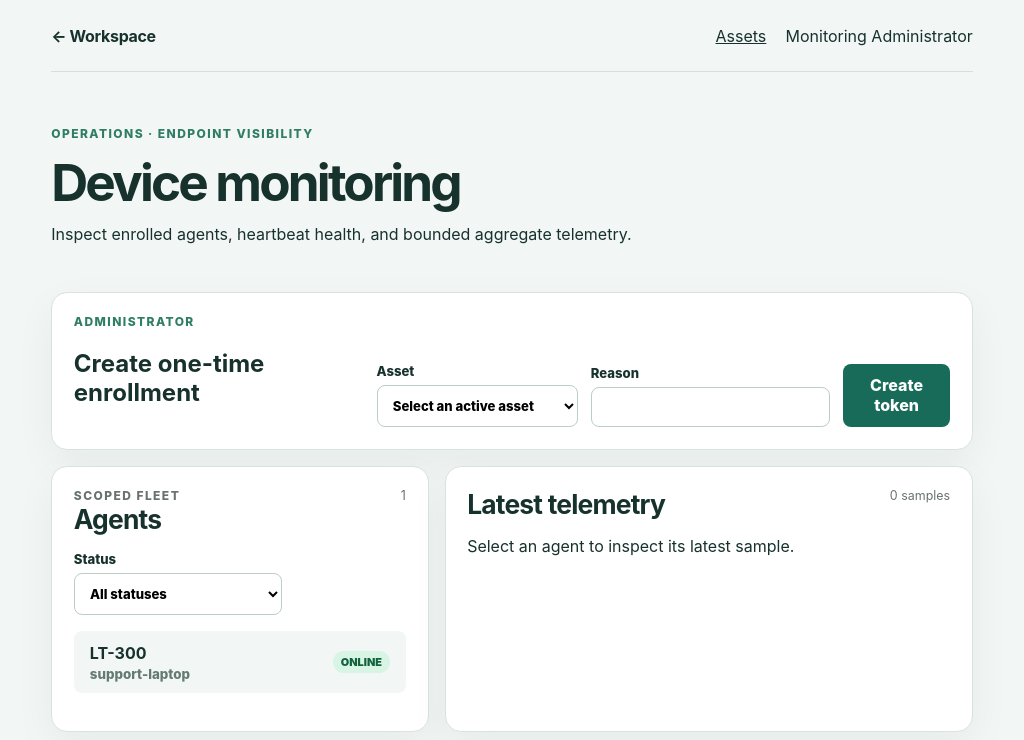
shows scoped telemetry and creates a one-time enrollment token
Expected: the text "LT-300" is shown, [90, 643, 147, 663]
Click the button "LT-300 support-laptop ONLINE" at (118, 653), box [74, 631, 406, 693]
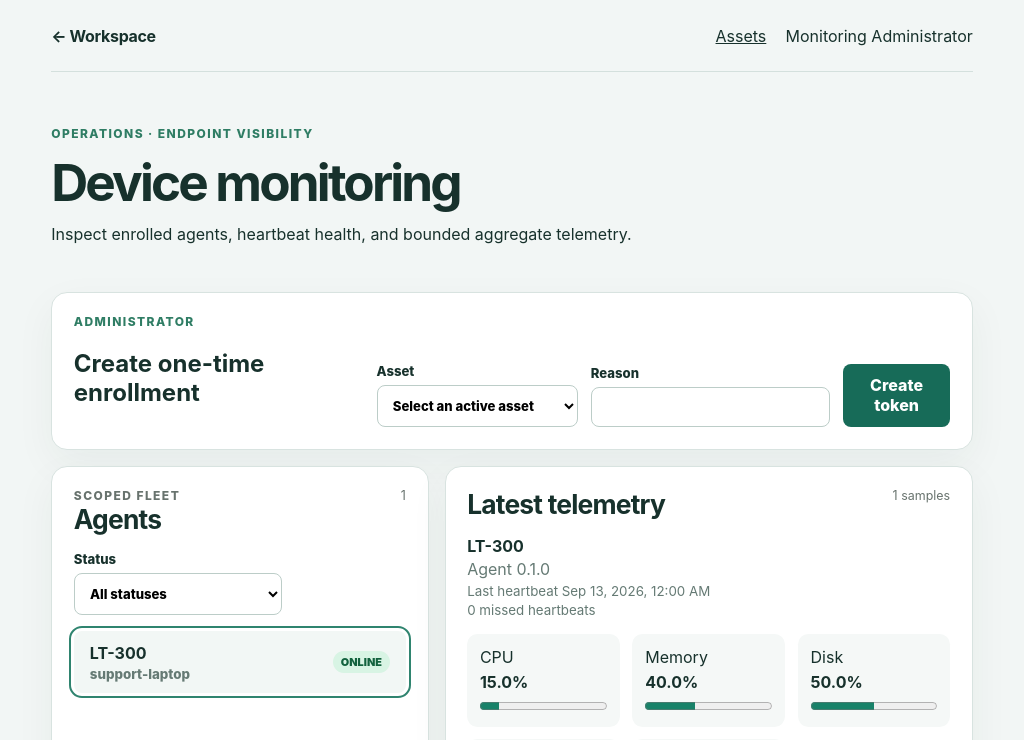
Expected: the text "15.0%" is shown, [480, 672, 528, 692]
Select "LT-300 · support-laptop" in the dropdown labelled "Asset" at (477, 406), box [377, 385, 578, 427]
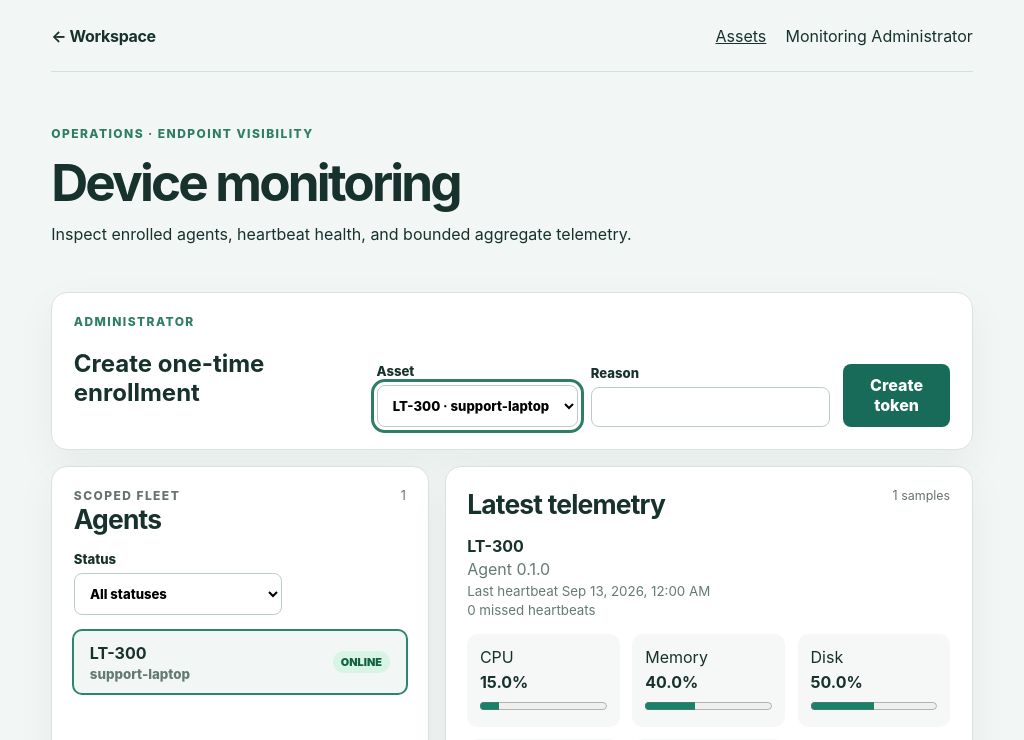
Type "Enroll supported endpoint" into the field labelled "Reason" at (710, 407), box [591, 387, 830, 427]
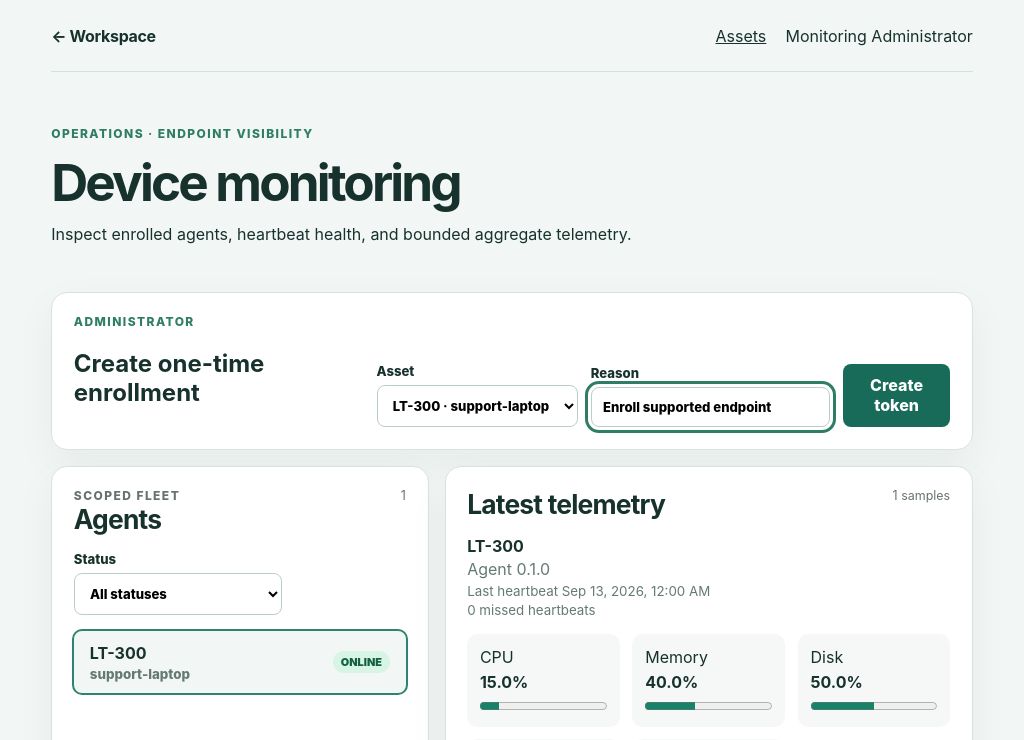
Click the button "Create token" at (897, 395), box [843, 364, 950, 427]
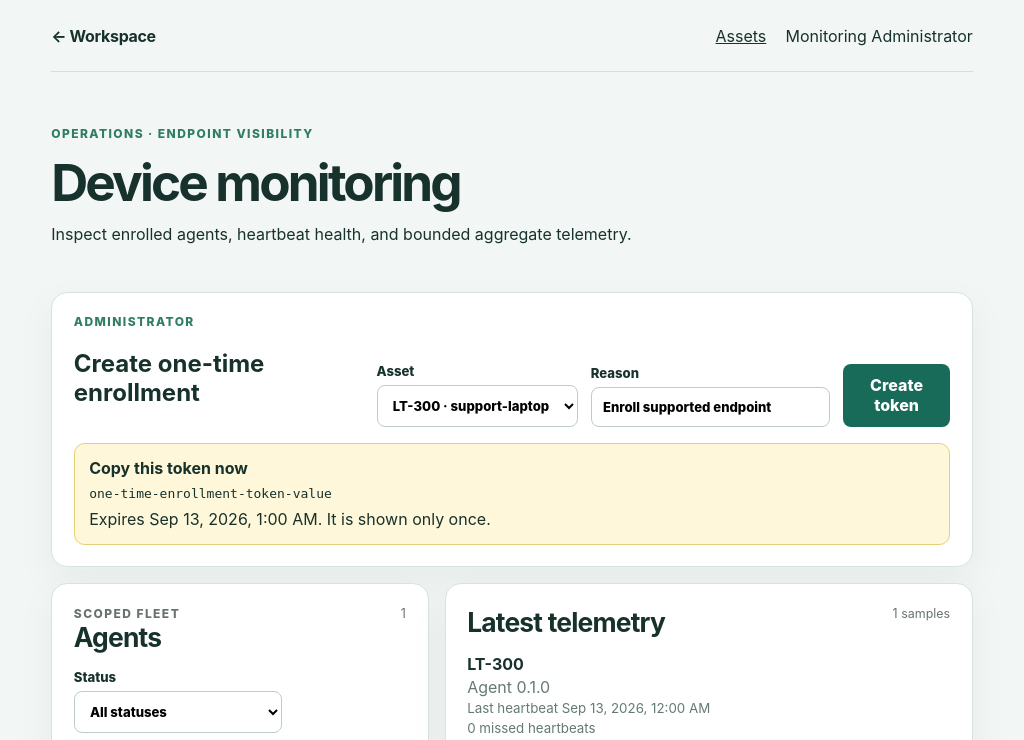
Expected: the text "one-time-enrollment-token-value" is shown, [89, 486, 332, 501]
Expected: the text "Expires Sep 13, 2026, 1:00 AM. It is shown only once." is shown, [89, 509, 491, 529]
